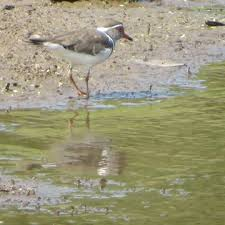Walking: (19, 10, 153, 112)
